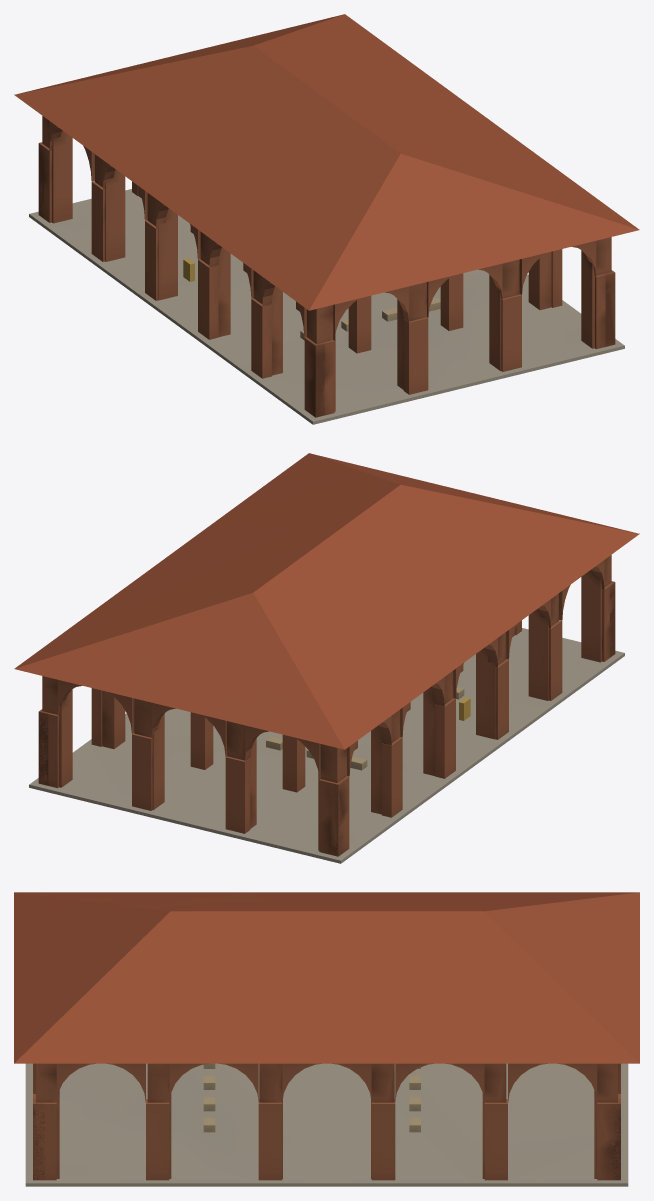
File: orsanmichele-loggia.glb
The picture shows the model from 3 angles, top to bottom: view 1: azimuth 30°, elevation 25°; view 2: azimuth 150°, elevation 25°; view 3: azimuth 270°, elevation 25°; orthographic projection. The views are drawn at different scales.
Parts seen in each view (by area): view 1: p1_roof, p0_piers; view 2: p1_roof, p0_piers; view 3: p1_roof, p0_piers.
Boxes of the visible parts, x1,y1,x2,y2 form: p1_roof: (14, 14, 639, 310); p0_piers: (29, 116, 624, 424); p1_roof: (14, 453, 639, 749); p0_piers: (29, 555, 624, 863); p1_roof: (14, 892, 639, 1063); p0_piers: (25, 1063, 628, 1186).
Size of the model in its own units: 27.6 by 14.62 by 42.6.
